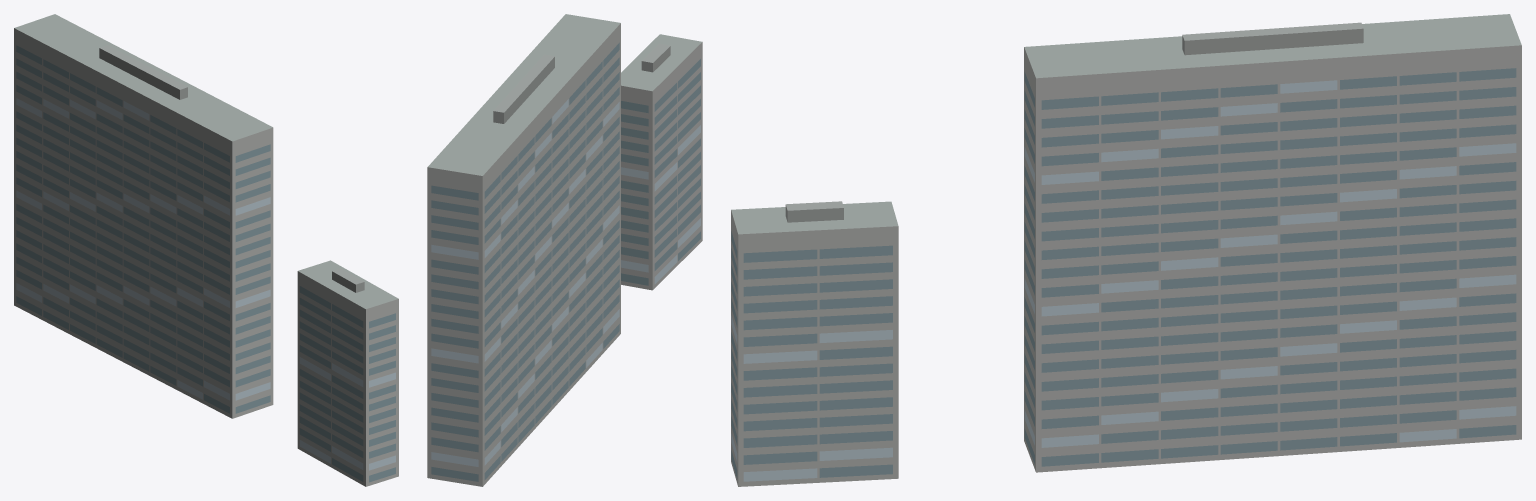
Rendered from apt-a13980803.glb.
3 renders of one model, left to right at view 1: azimuth 30°, elevation 25°; view 2: azimuth 150°, elevation 25°; view 3: azimuth 270°, elevation 25°, orthographic. The views are drawn at different scales.
Visible parts, largest first — view 1: apt-a13980803; view 2: apt-a13980803; view 3: apt-a13980803.
Part boxes in pixels (x1,y1,x2,y2): apt-a13980803: (14, 14, 398, 486); apt-a13980803: (427, 14, 702, 486); apt-a13980803: (731, 14, 1521, 486).
Bounding box in the file's own units: 28.07 × 68 × 119.
